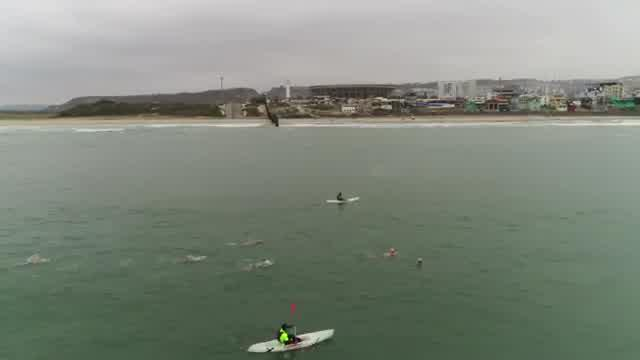human: (412, 254, 438, 274), (380, 240, 398, 256)
